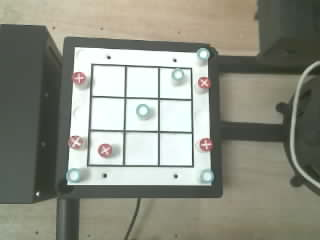blue circle: (66, 168, 80, 182), (136, 104, 150, 118), (201, 169, 213, 183), (197, 48, 209, 60), (172, 68, 183, 81)
board: (67, 47, 213, 185)
cells: (89, 132, 122, 164), (125, 133, 157, 165), (160, 133, 192, 165), (91, 98, 123, 129), (160, 100, 191, 131), (126, 99, 157, 130), (92, 66, 124, 96), (160, 68, 191, 98), (127, 67, 157, 97)
grid: (87, 64, 193, 167)
red cross: (68, 136, 83, 149), (72, 72, 85, 85), (98, 144, 111, 157), (199, 138, 212, 151), (198, 77, 211, 88)
